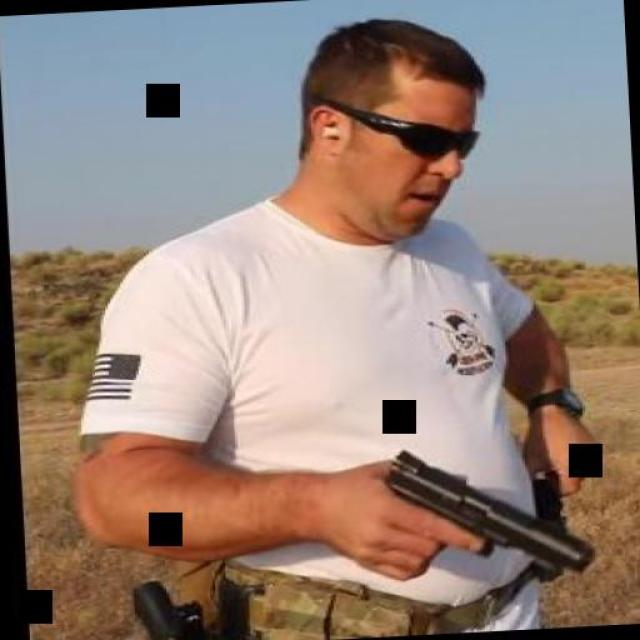gun: (369, 434, 605, 584)
